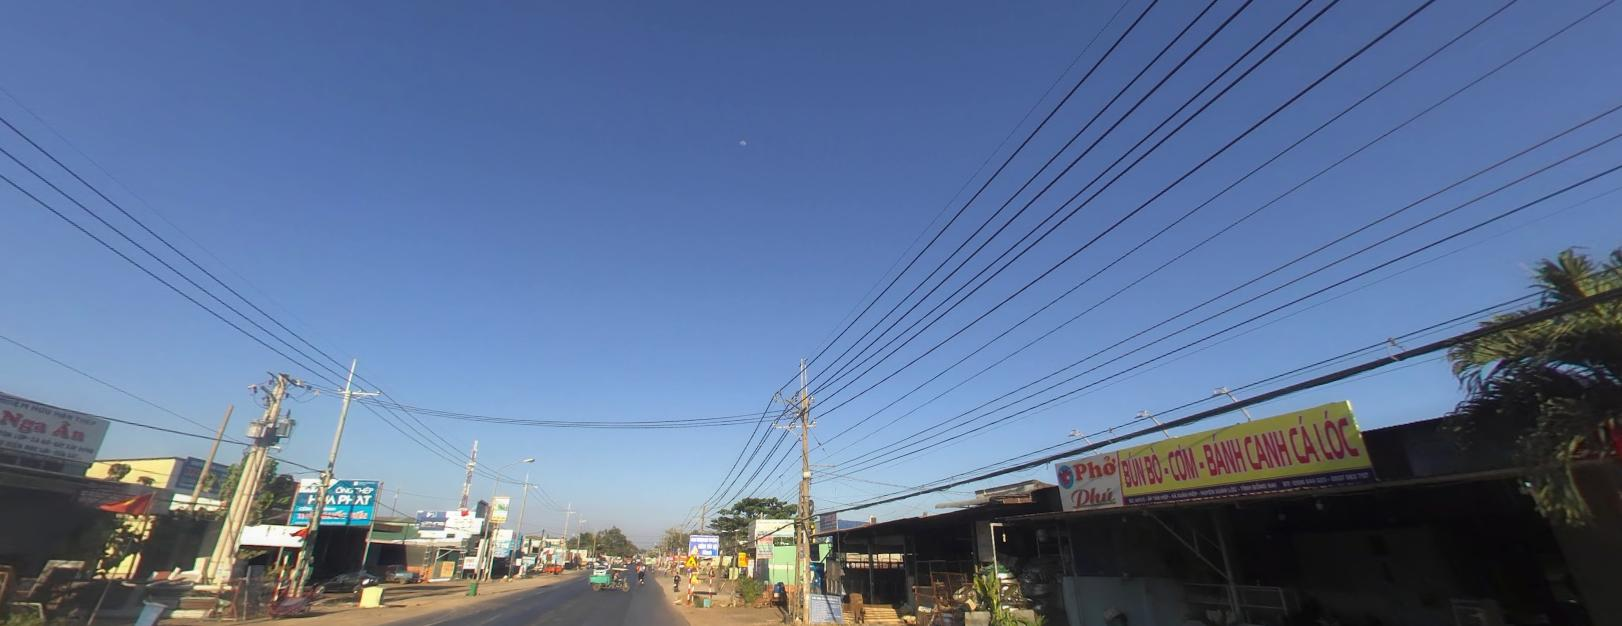Nguy hiem: (685, 554, 697, 566), (689, 544, 699, 553)
